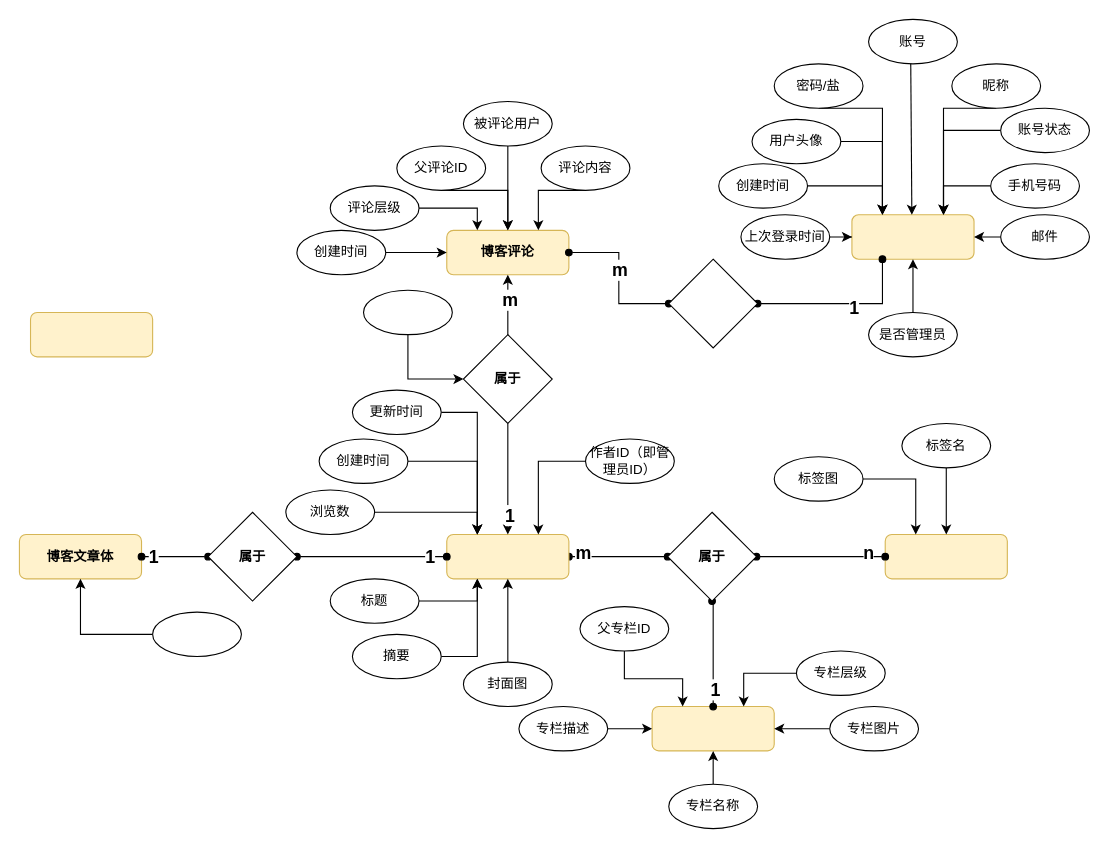
The diagram is 1109 pixels wide and 848 high, and some of its shapes have lost their labels. The centre of each missing label's shape, as x and y in pixels:
"博客专栏" belongs at point (712, 728).
"博客文章" belongs at point (507, 556).
"博客标签" belongs at point (945, 556).
"发布" belongs at point (713, 303).
"操作日志" belongs at point (91, 334).
"文章体" belongs at point (196, 634).
"系统用户" belongs at point (912, 236).
"评论数" belongs at point (407, 312).
